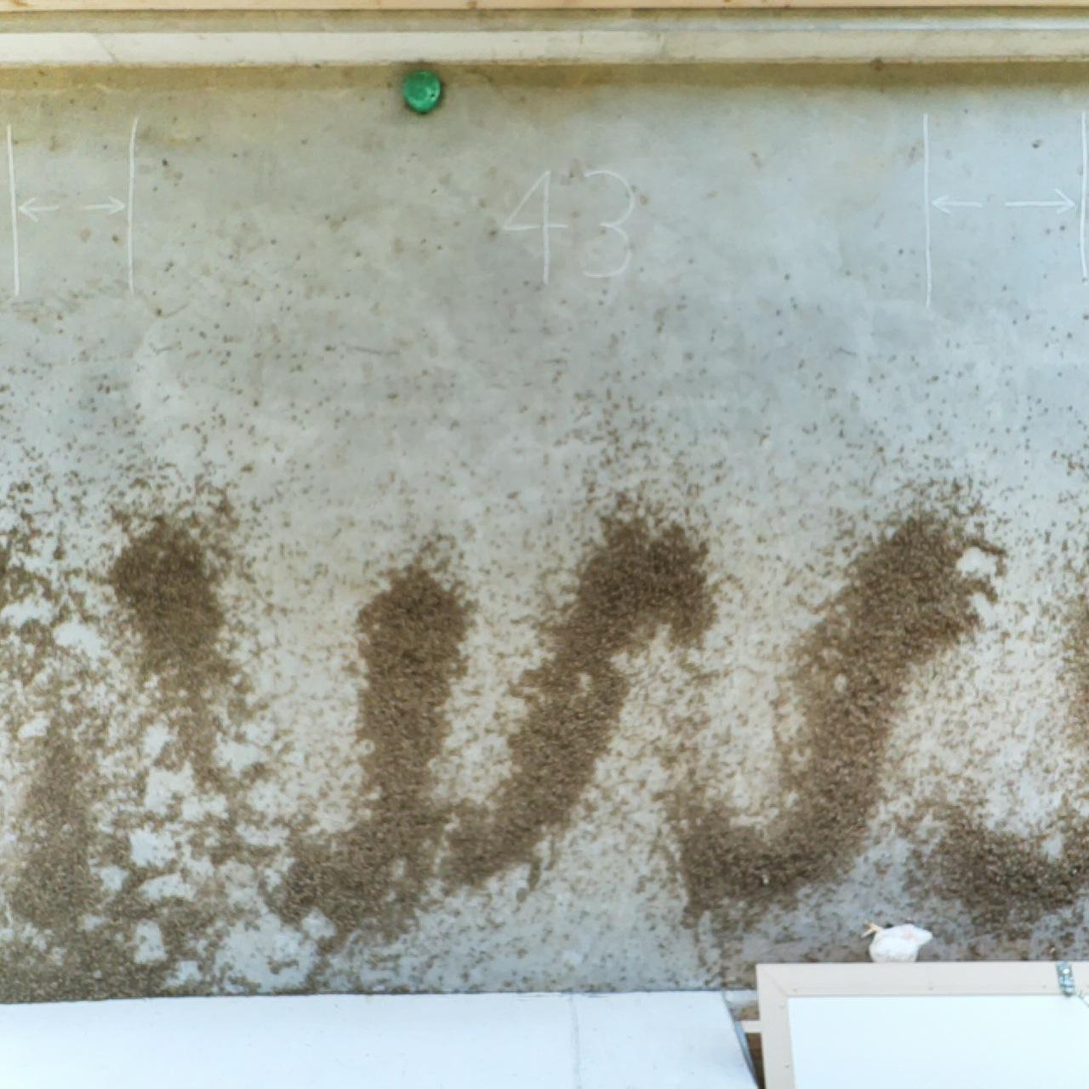chicken: (852, 914, 936, 967)
